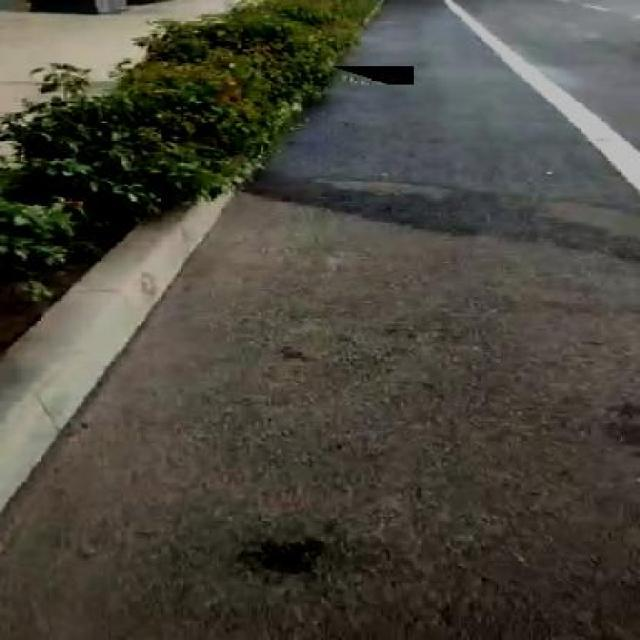Manhole: (331, 66, 414, 84)
Pothole: (237, 532, 336, 582), (279, 343, 317, 367)
